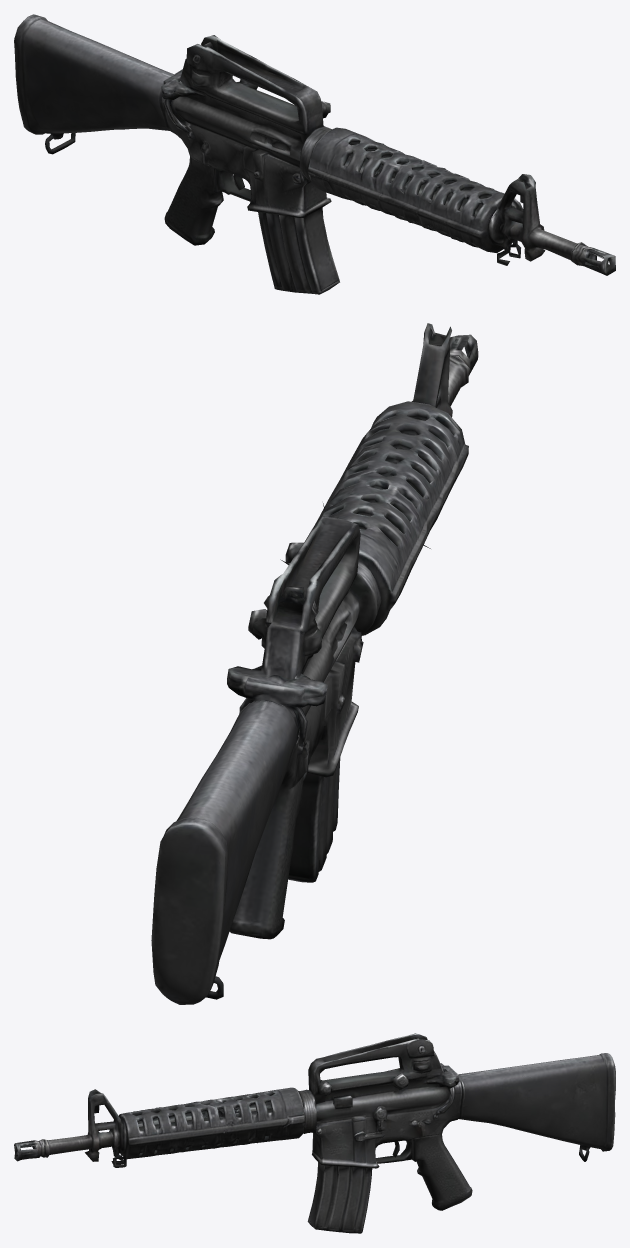
The picture shows the model from 3 angles, top to bottom: view 1: azimuth 30°, elevation 25°; view 2: azimuth 150°, elevation 25°; view 3: azimuth 270°, elevation 25°; orthographic projection. The views are drawn at different scales.
Parts seen in each view (by area): view 1: tripo_node_51d8596e-8dd1-44c8-a899-ea54875ac374; view 2: tripo_node_51d8596e-8dd1-44c8-a899-ea54875ac374; view 3: tripo_node_51d8596e-8dd1-44c8-a899-ea54875ac374.
Boxes of the visible parts, x1=… form: tripo_node_51d8596e-8dd1-44c8-a899-ea54875ac374: x1=14, y1=14, x2=615, y2=294; tripo_node_51d8596e-8dd1-44c8-a899-ea54875ac374: x1=151, y1=323, x2=478, y2=1004; tripo_node_51d8596e-8dd1-44c8-a899-ea54875ac374: x1=14, y1=1033, x2=615, y2=1233.
Bounding box in the file's own units: 0.3412 × 0.323 × 0.9786.
Materials: 1 (1 with a texture image).
